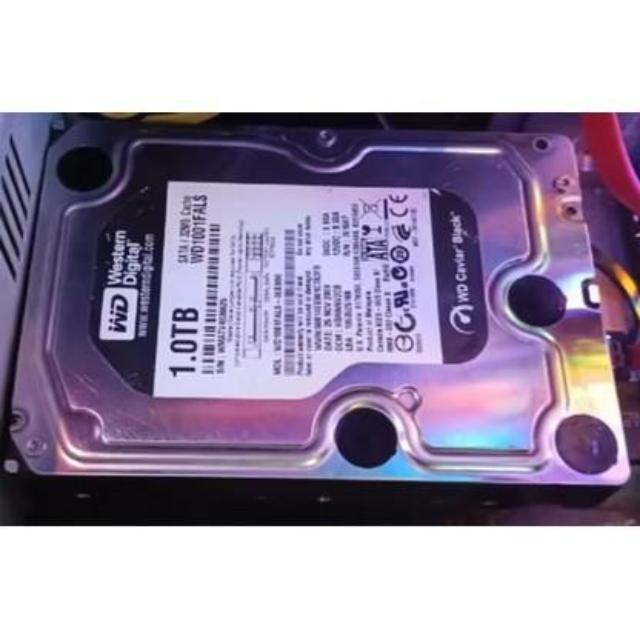DISK: (4, 128, 638, 518)
